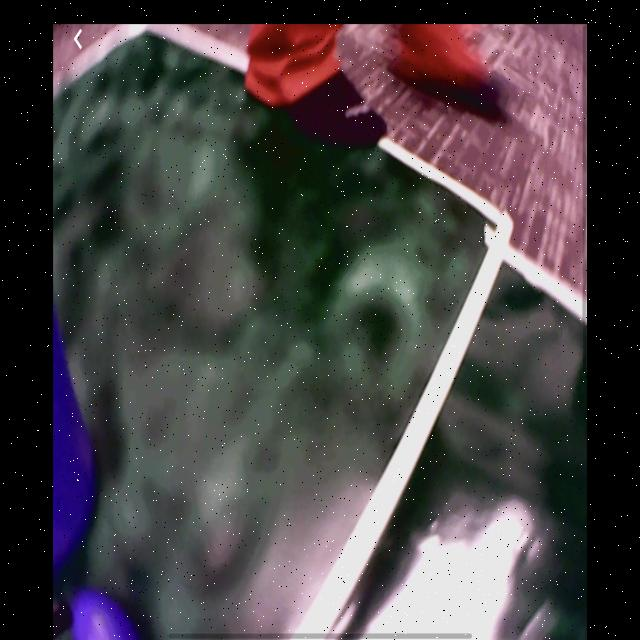ball: (67, 590, 138, 639)
